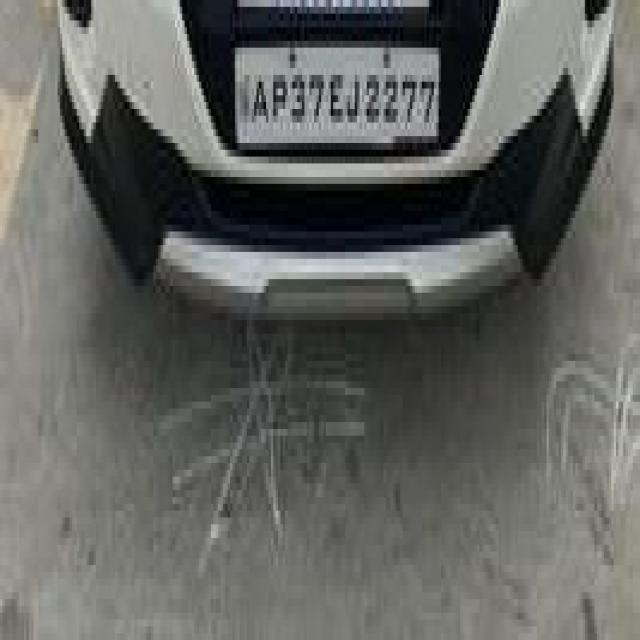plate: (235, 38, 442, 148)
